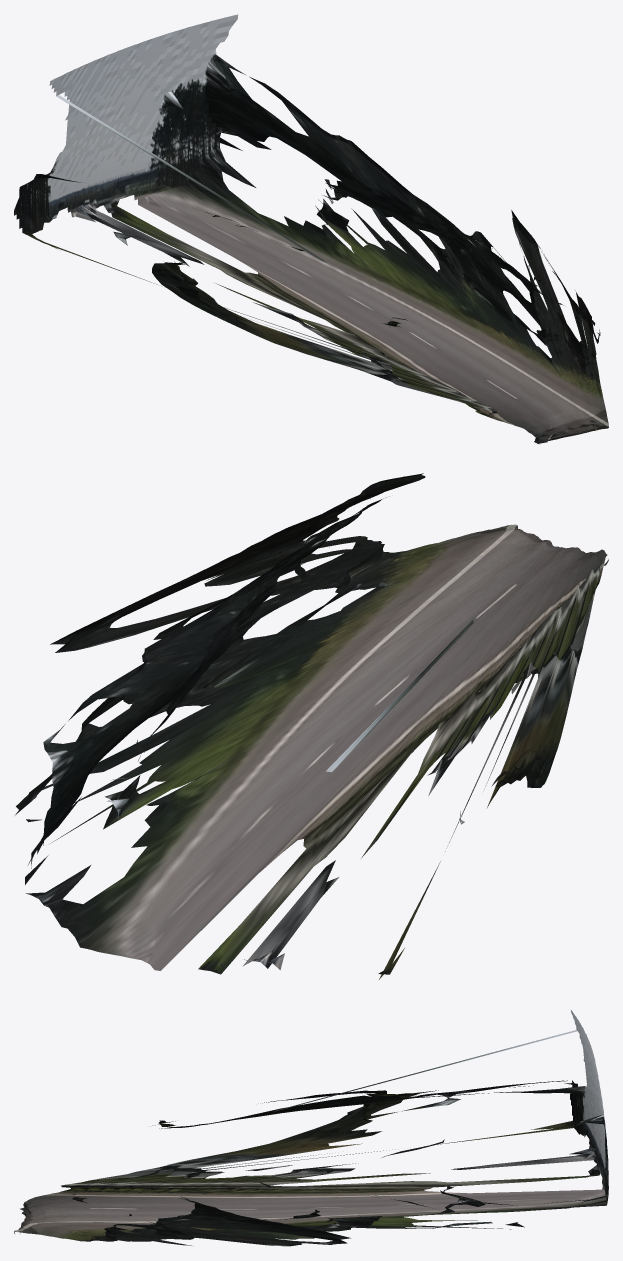
3 views of the same model, one above another, from view 1: azimuth 30°, elevation 25°; view 2: azimuth 150°, elevation 25°; view 3: azimuth 270°, elevation 25° (orthographic). The views are drawn at different scales.
Visible parts, largest first — view 1: defaultobject; view 2: defaultobject; view 3: defaultobject.
Boxes of the visible parts, left/top/right/bottom form: defaultobject: left=14, top=14, right=608, bottom=444; defaultobject: left=14, top=473, right=608, bottom=979; defaultobject: left=14, top=1010, right=608, bottom=1246.
Bounding box in the file's own units: 26.55 × 11.79 × 44.66.
1 material, 1 textured.
